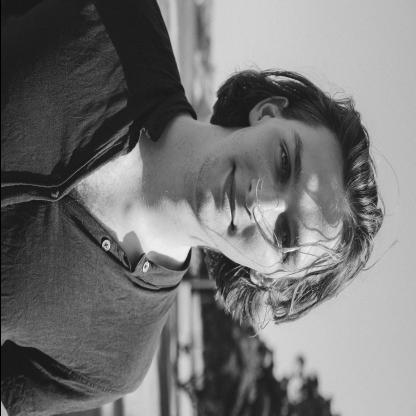Eye: (273, 216, 291, 266), (275, 142, 292, 184)
Mouth: (221, 163, 240, 232)
Nose: (244, 178, 286, 222)
